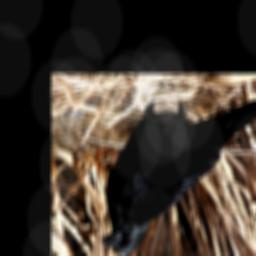Crow: (99, 98, 256, 256)
